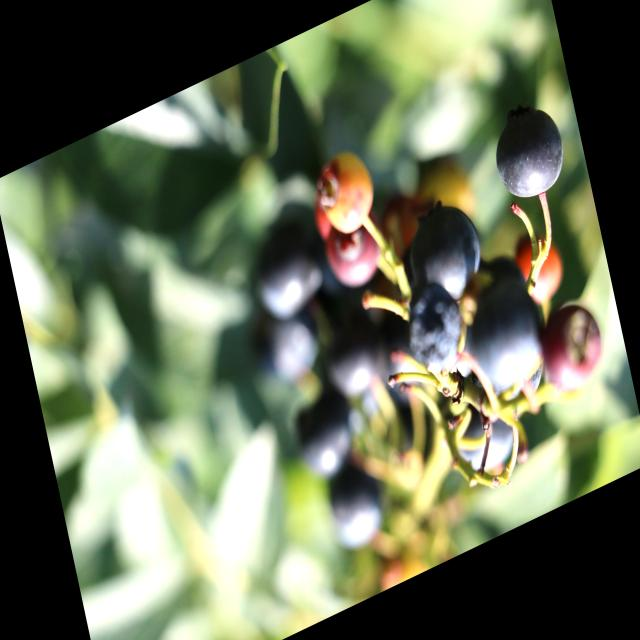blueberry: (455, 262, 560, 406), (396, 185, 493, 326), (482, 84, 574, 216), (243, 213, 332, 338), (316, 449, 400, 570), (396, 265, 474, 388), (284, 380, 364, 493), (443, 389, 527, 496), (254, 286, 334, 398), (322, 308, 391, 408), (371, 299, 432, 409), (503, 326, 564, 408)
blueberry-halfripe: (536, 292, 610, 401), (313, 143, 378, 241), (324, 212, 385, 306), (512, 228, 568, 314)
